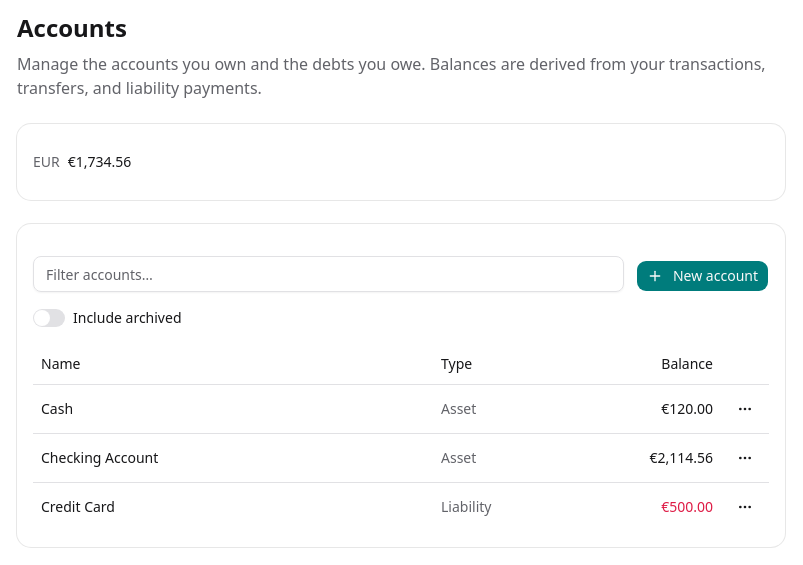
Test: AccountsLayout › search-empty state with Clear search
Check: the text "Cash" is shown, box [41,398,73,418]
Type "zzznomatch" into the field with placeholder "Filter accounts…" at (328, 274), box [33,256,624,292]
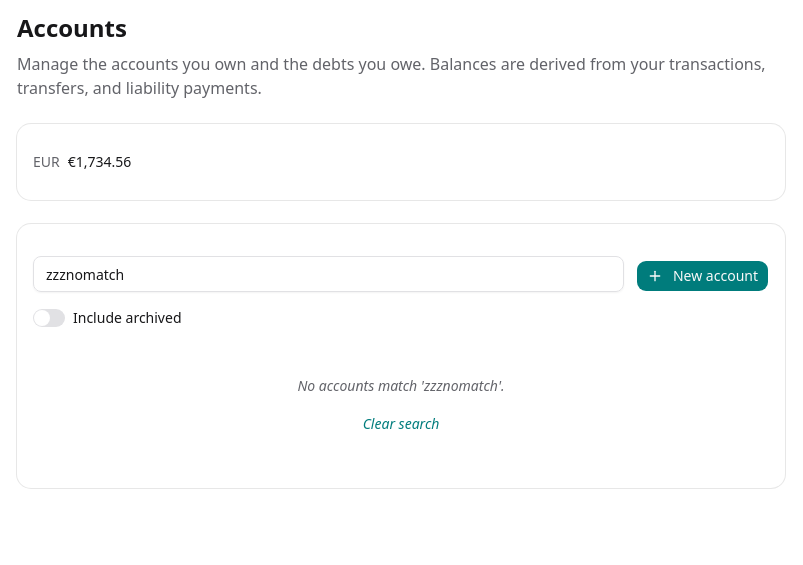
Check: the text "No accounts match 'zzznomatch'." is shown, box [297,376,505,395]
Check: the button "Clear search" is shown, box [352,408,450,440]
